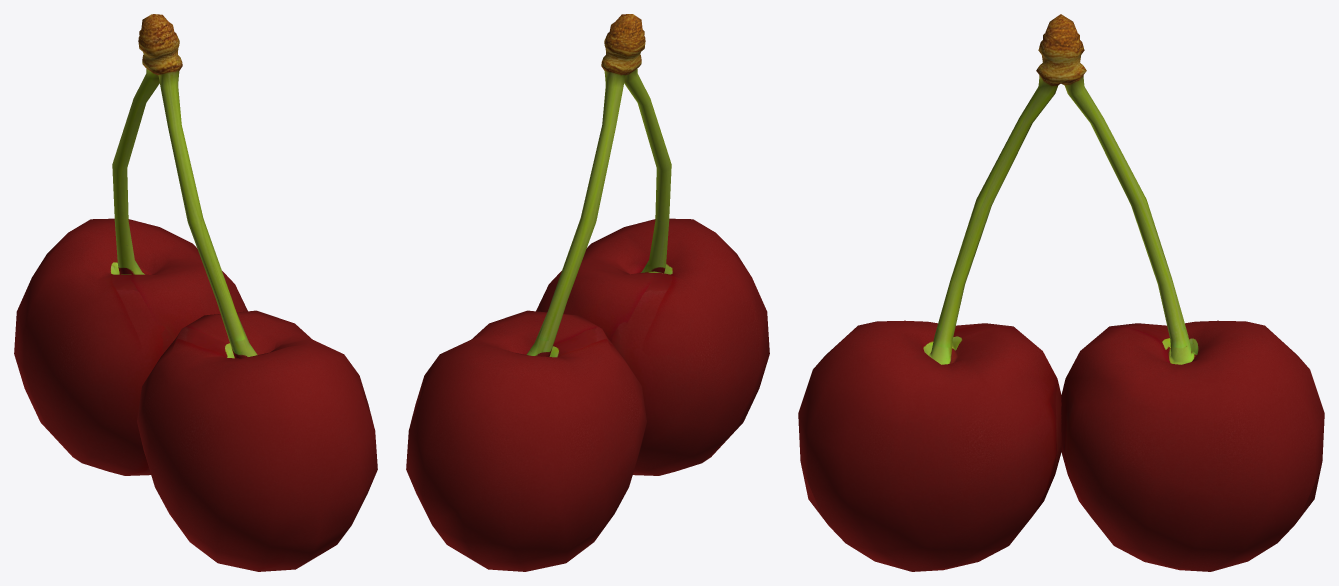
The model's file is cherry_pair.glb.
3 renders of one model, left to right at view 1: azimuth 30°, elevation 25°; view 2: azimuth 150°, elevation 25°; view 3: azimuth 270°, elevation 25°, orthographic. The views are drawn at different scales.
Visible parts, largest first — view 1: tripo_node_bff09ed6-9f16-4b7e-9b20-a0a05e2003da.001; view 2: tripo_node_bff09ed6-9f16-4b7e-9b20-a0a05e2003da.001; view 3: tripo_node_bff09ed6-9f16-4b7e-9b20-a0a05e2003da.001.
Boxes of the visible parts, x1,y1,x2,y2 form: tripo_node_bff09ed6-9f16-4b7e-9b20-a0a05e2003da.001: [14, 14, 377, 571]; tripo_node_bff09ed6-9f16-4b7e-9b20-a0a05e2003da.001: [406, 14, 769, 571]; tripo_node_bff09ed6-9f16-4b7e-9b20-a0a05e2003da.001: [798, 14, 1324, 571].
Bounding box in the file's own units: 0.035 × 0.09 × 0.0823.
Materials: 1 (1 with a texture image).
